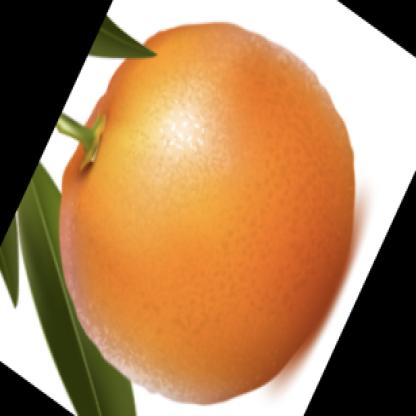fresh: (60, 23, 355, 402)
